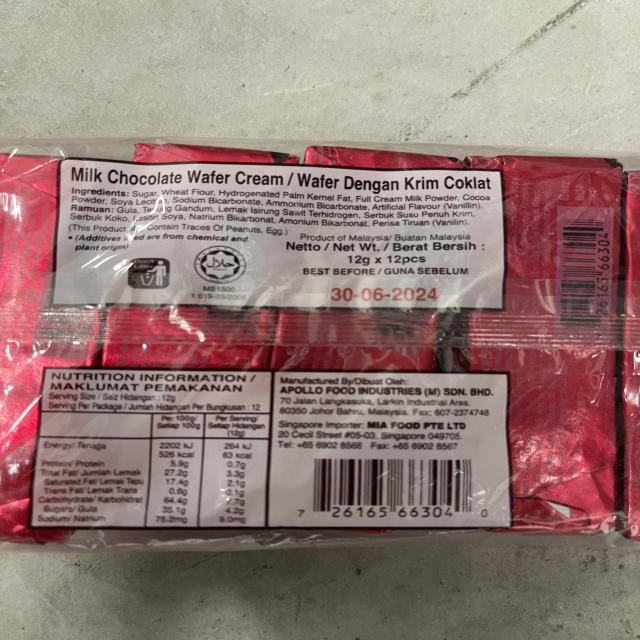object_name: (6, 146, 640, 531)
